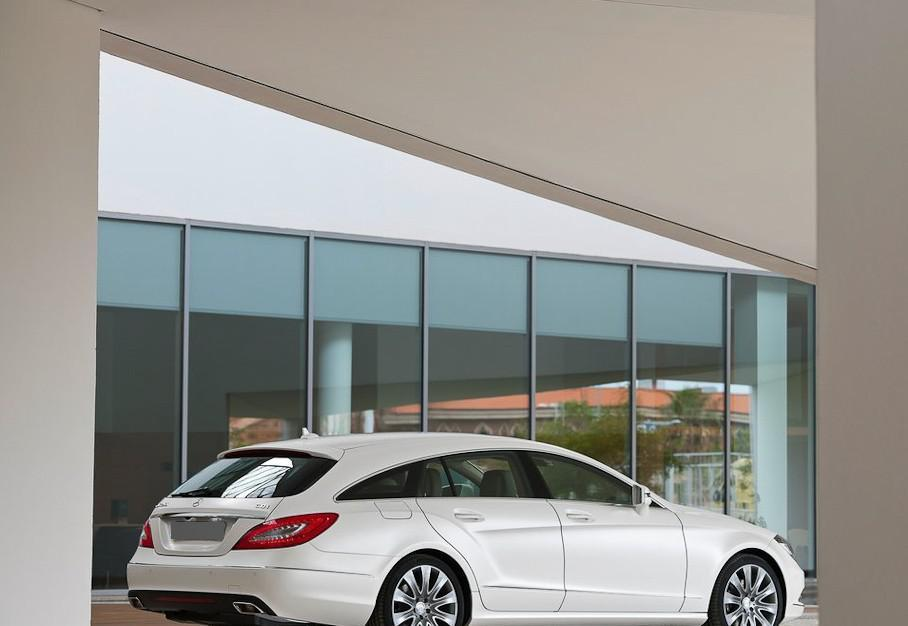Wagon: (124, 426, 806, 626)
